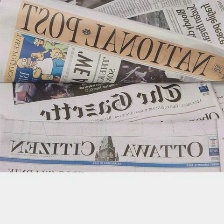news_paper: (0, 0, 223, 172)
